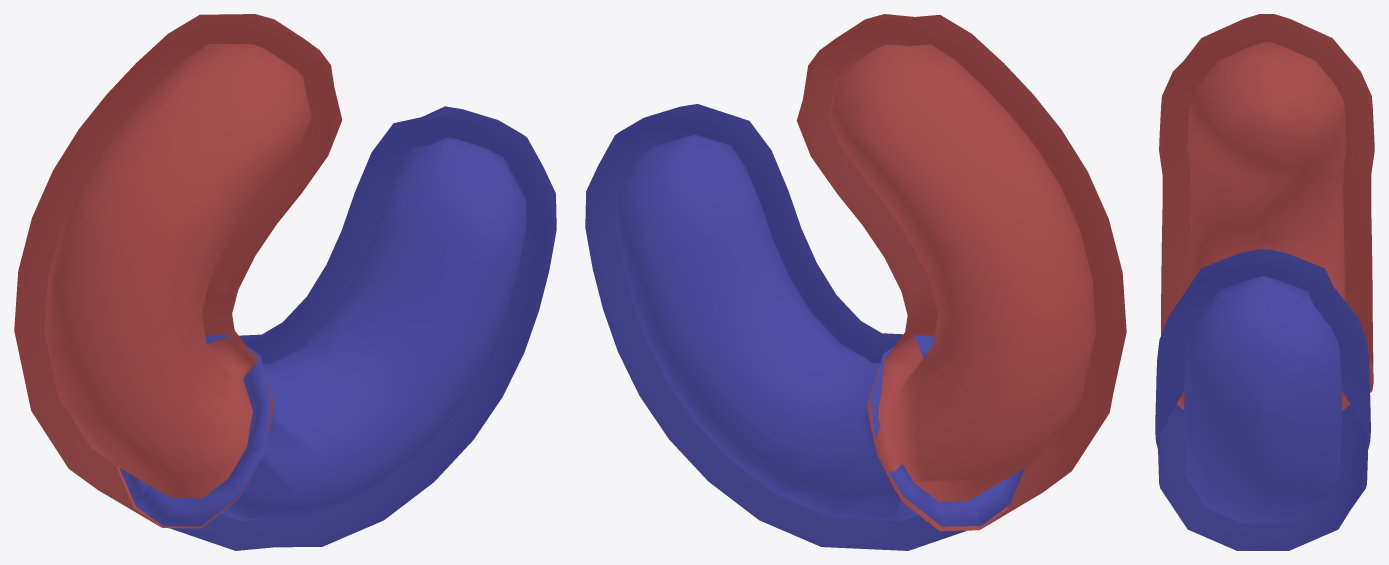
The model's file is magnet.glb.
The picture shows the model from 3 angles, left to right: view 1: azimuth 30°, elevation 25°; view 2: azimuth 150°, elevation 25°; view 3: azimuth 270°, elevation 25°; orthographic projection. The views are drawn at different scales.
Parts seen in each view (by area): view 1: Icosphere.004, Icosphere.005; view 2: Icosphere.004, Icosphere.005; view 3: Icosphere.005, Icosphere.004.
Boxes of the visible parts, bbox=[...] form: Icosphere.004: bbox=[14, 14, 342, 528]; Icosphere.005: bbox=[119, 106, 556, 550]; Icosphere.004: bbox=[796, 14, 1126, 531]; Icosphere.005: bbox=[585, 104, 1024, 550]; Icosphere.005: bbox=[1155, 249, 1370, 550]; Icosphere.004: bbox=[1159, 14, 1374, 410].
Size of the model in its own units: 2.06 by 2.04 by 0.8361.
